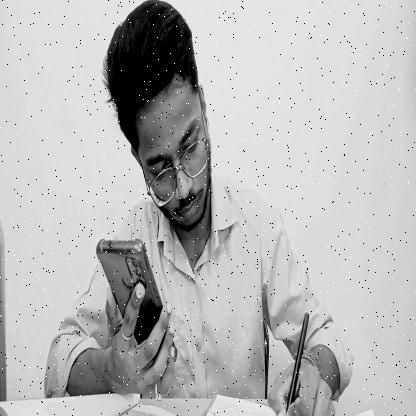Distracted: (106, 4, 216, 240)
